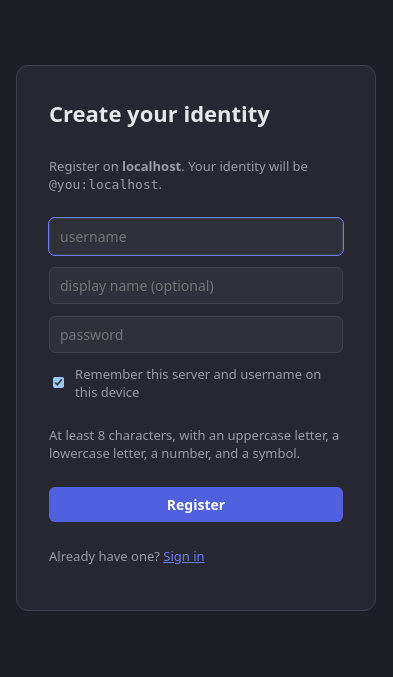
Scenario: AuthPage - invite-only registration › asks for a code once the server has demanded one, though it never said so up front
The width and height of the screenshot is (393, 677).
Expected: the field labelled "Invite code" is not shown
In the field with placeholder "username": point(196, 236) [49, 218, 343, 255], type "alice"
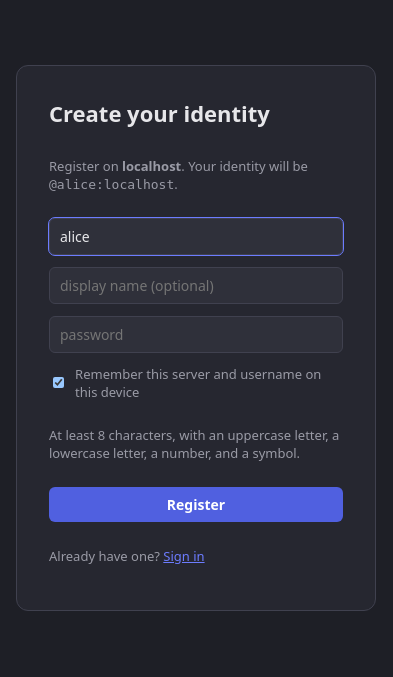
In the password field with placeholder "password": point(196, 334) [49, 316, 343, 353], type "Str0ng!Passw0rd"
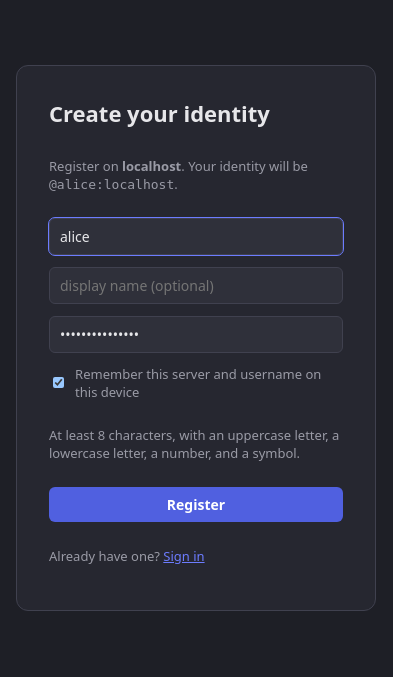
Click the button "Register": point(196, 505) [49, 487, 343, 522]
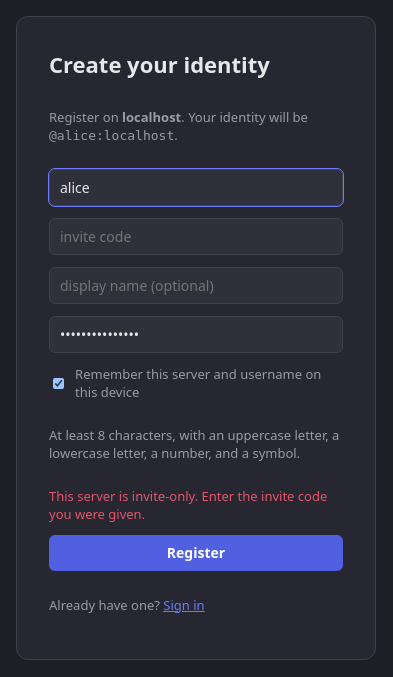
Now the text "This server is invite-only. Enter the invite code you were given." is shown, box [49, 487, 343, 523]
